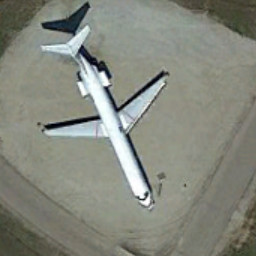Airplane: (18, 18, 182, 218)
